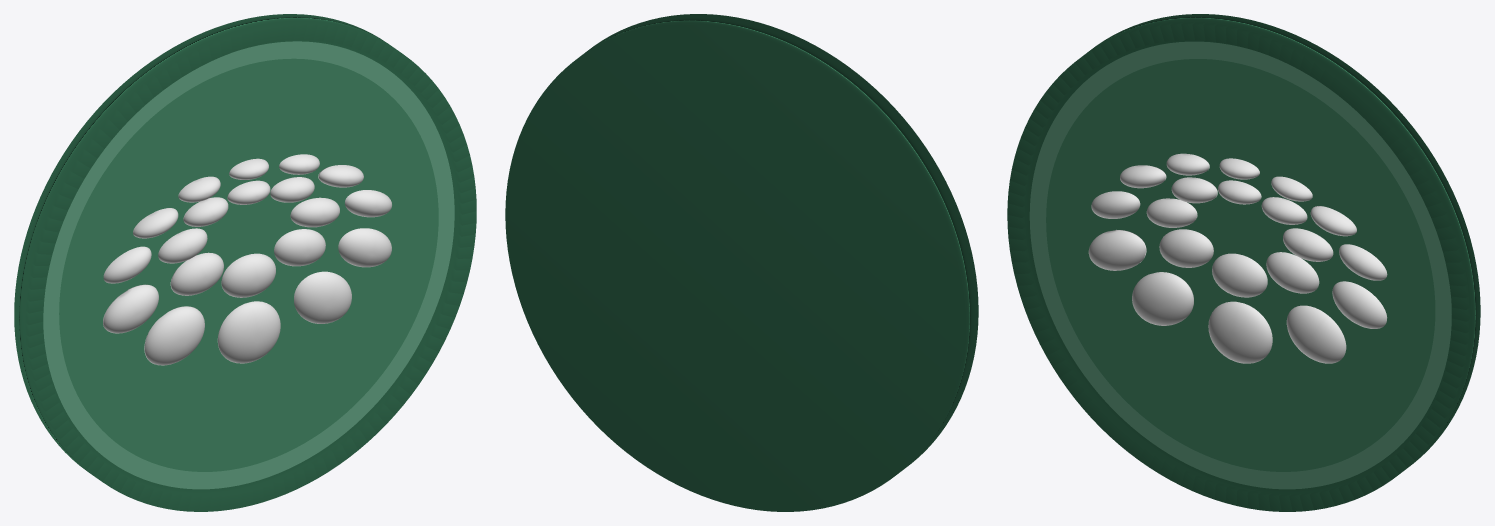
The model's file is 3DPinto.glb.
The picture shows the model from 3 angles, left to right: view 1: azimuth 30°, elevation 25°; view 2: azimuth 150°, elevation 25°; view 3: azimuth 330°, elevation 25°; orthographic projection.
Parts seen in each view (by area): view 1: Cylinder; view 2: Cylinder; view 3: Cylinder.
Boxes of the visible parts, box(x1,y1,x2,y2) form: Cylinder: box(14, 14, 476, 511); Cylinder: box(505, 14, 978, 511); Cylinder: box(1007, 14, 1480, 511).
Bounding box in the file's own units: 2 × 2 × 0.1802.
